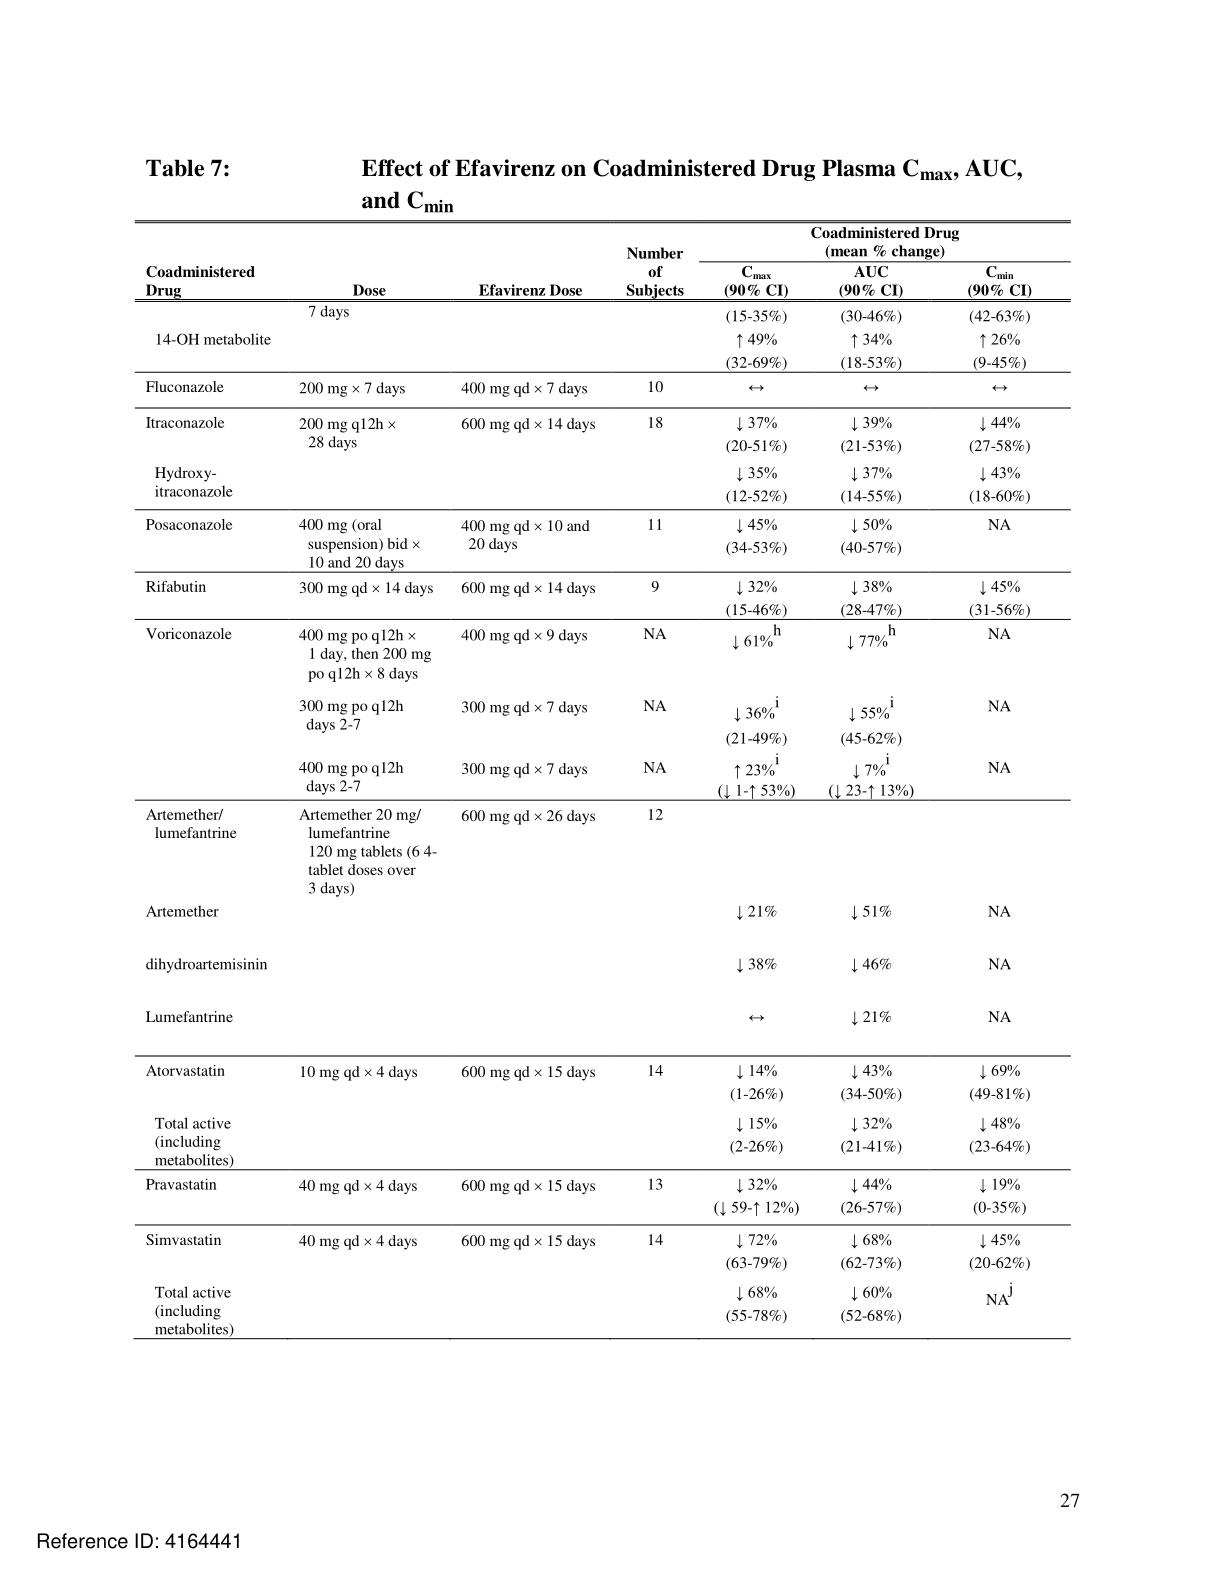partial_lined_merged_cells: (132, 219, 1074, 1341)
